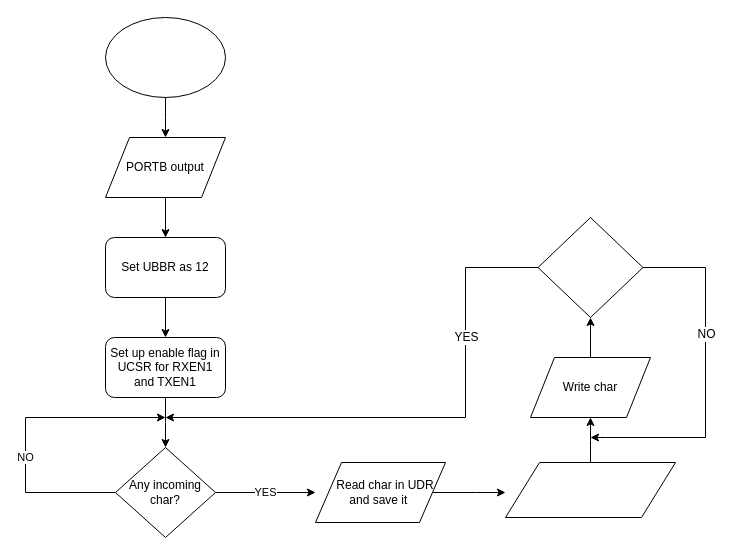
This 732x555 diagram has some shape labels left out. The shapes that lost their labels are listed below. From the top down, each one's centre as x and y in pixels, then its label:
At pixel 165 57: "Start".
At pixel 590 267: "Is output buffer empty?".
At pixel 590 490: "Light LED on (com ->output->com)".
